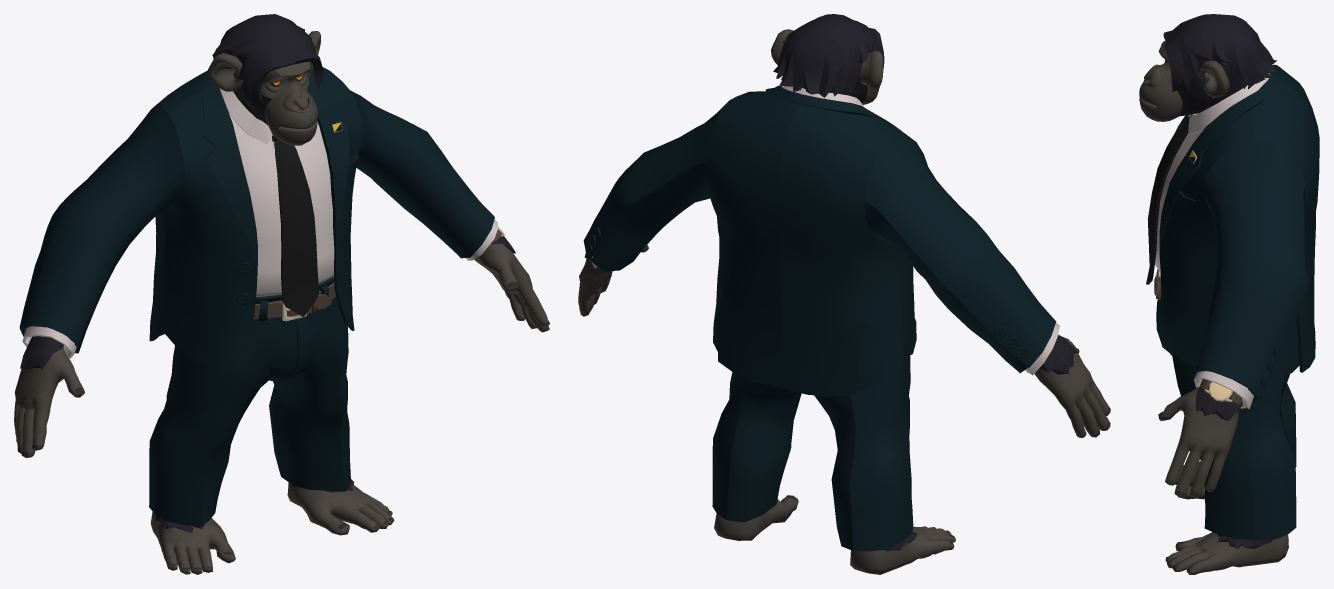
File: CHAR_MrProBonobo.glb
3 views of the same model, side by side, from view 1: azimuth 30°, elevation 25°; view 2: azimuth 150°, elevation 25°; view 3: azimuth 270°, elevation 25° (orthographic).
Visible parts, largest first — view 1: Body, Head; view 2: Body, Head; view 3: Body, Head.
Part boxes in pixels (x1,y1,x2,y2): Body: [14, 67, 549, 574]; Head: [208, 14, 323, 145]; Body: [578, 85, 1110, 574]; Head: [771, 14, 884, 104]; Body: [1146, 64, 1319, 574]; Head: [1139, 14, 1276, 121].
Bounding box in the file's own units: 1.65 × 1.55 × 0.5017.
